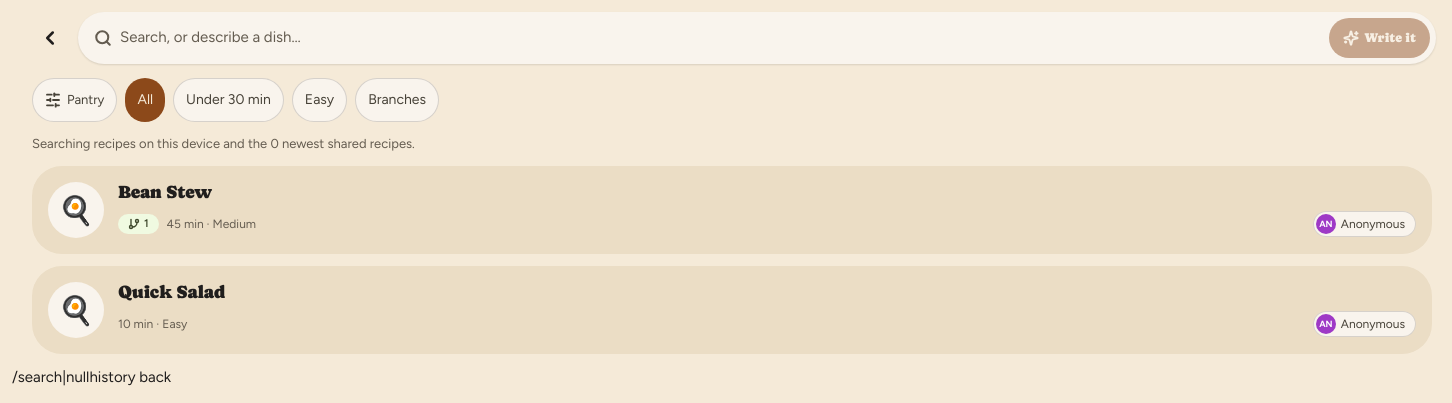
Test: SearchPage › filters by title and by ingredient, and keeps q in the URL
The width and height of the screenshot is (1452, 403).
Type "salad" into the search field named "Search recipes, or describe a dish" at (720, 38), box [120, 26, 1321, 50]
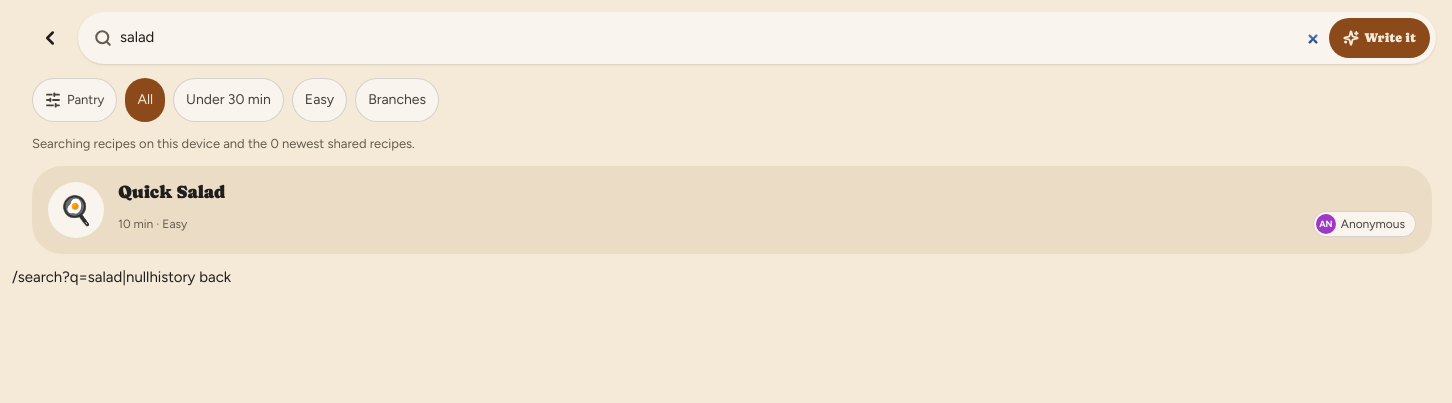
Replace the text in the search field named "Search recipes, or describe a dish" with "walnut" at (720, 38), box [120, 26, 1321, 50]
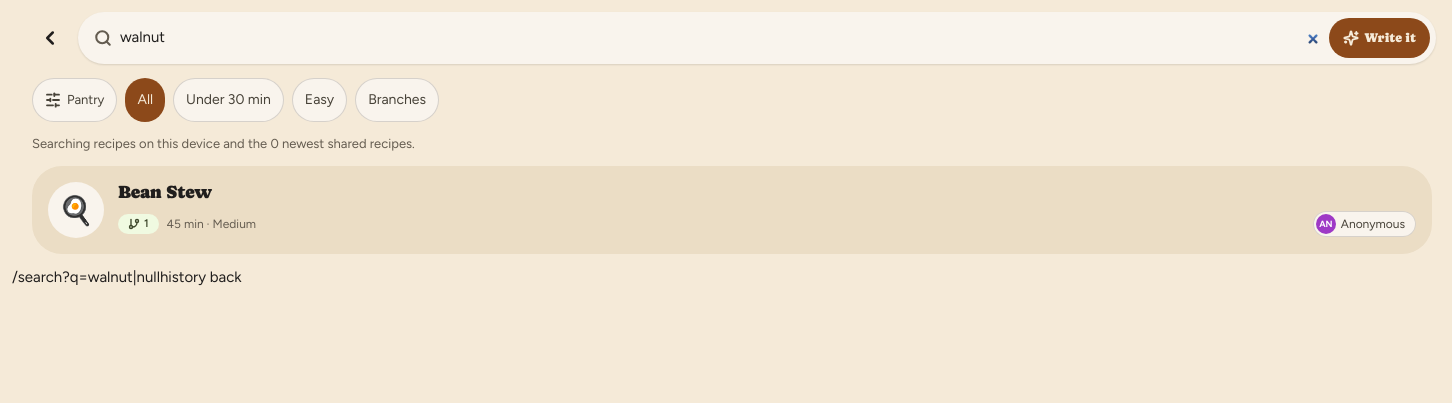
Check: the text with test id "probe" shows "/search?q=walnut", box [12, 268, 160, 286]
